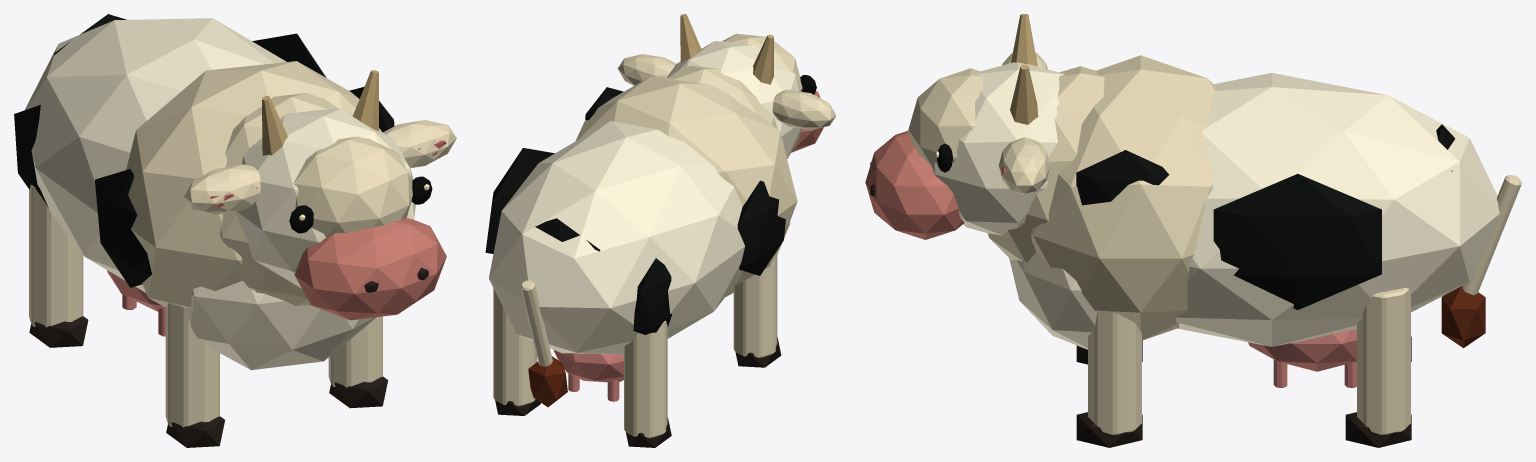
Rendered from Cow.glb.
The picture shows the model from 3 angles, left to right: view 1: azimuth 30°, elevation 25°; view 2: azimuth 150°, elevation 25°; view 3: azimuth 270°, elevation 25°; orthographic projection. The views are drawn at different scales.
Parts seen in each view (by area): view 1: Cow_Body, Cow_Shoulders, Cow_Muzzle, Cow_Chest, Cow_Head, Cow_Forehead, Cow_Coat_BlackPatches, Cow_Leg_RR, Cow_Leg_FR, Cow_Neck, Cow_Ear_R, Cow_Leg_FL (+9 smaller); view 2: Cow_Body, Cow_Shoulders, Cow_Coat_BlackPatches, Cow_Leg_RR, Cow_Head, Cow_Leg_FR, Cow_Leg_RL, Cow_Ear_R, Cow_Neck, Cow_Udder, Cow_TailTuft, Cow_Tail (+9 smaller); view 3: Cow_Body, Cow_Shoulders, Cow_Coat_BlackPatches, Cow_Head, Cow_Leg_RL, Cow_Muzzle, Cow_Leg_FL, Cow_Neck, Cow_Chest, Cow_Forehead, Cow_Udder, Cow_Ear_L (+7 smaller).
Boxes of the visible parts, <box> form: Cow_Body: <box>25,18,286,292</box>; Cow_Shoulders: <box>126,61,382,308</box>; Cow_Muzzle: <box>294,218,446,320</box>; Cow_Chest: <box>186,280,375,370</box>; Cow_Head: <box>234,108,415,288</box>; Cow_Forehead: <box>293,136,412,236</box>; Cow_Coat_BlackPatches: <box>14,14,394,287</box>; Cow_Leg_RR: <box>29,185,83,327</box>; Cow_Leg_FR: <box>165,303,219,427</box>; Cow_Neck: <box>220,93,337,305</box>; Cow_Ear_R: <box>184,164,260,214</box>; Cow_Leg_FL: <box>328,316,382,387</box>; Cow_Body: <box>489,121,745,354</box>; Cow_Shoulders: <box>575,76,797,286</box>; Cow_Coat_BlackPatches: <box>485,87,785,334</box>; Cow_Leg_RR: <box>624,320,667,438</box>; Cow_Head: <box>667,41,801,158</box>; Cow_Leg_FR: <box>733,251,777,357</box>; Cow_Leg_RL: <box>493,288,536,406</box>; Cow_Ear_R: <box>772,89,836,129</box>; Cow_Neck: <box>667,65,784,148</box>; Cow_Udder: <box>553,350,623,382</box>; Cow_TailTuft: <box>528,356,567,407</box>; Cow_Tail: <box>520,280,552,366</box>; Cow_Body: <box>1175,73,1499,346</box>; Cow_Shoulders: <box>1031,55,1216,340</box>; Cow_Coat_BlackPatches: <box>1076,124,1455,309</box>; Cow_Head: <box>932,62,1064,235</box>; Cow_Leg_RL: <box>1357,287,1410,434</box>; Cow_Muzzle: <box>865,130,964,239</box>; Cow_Leg_FL: <box>1088,311,1141,434</box>; Cow_Neck: <box>988,66,1104,262</box>; Cow_Chest: <box>1009,252,1097,349</box>; Cow_Forehead: <box>908,68,982,165</box>; Cow_Udder: <box>1248,329,1356,371</box>; Cow_Ear_L: <box>998,137,1050,193</box>.
Size of the model in its own units: 1.4 by 1.89 by 3.05.
